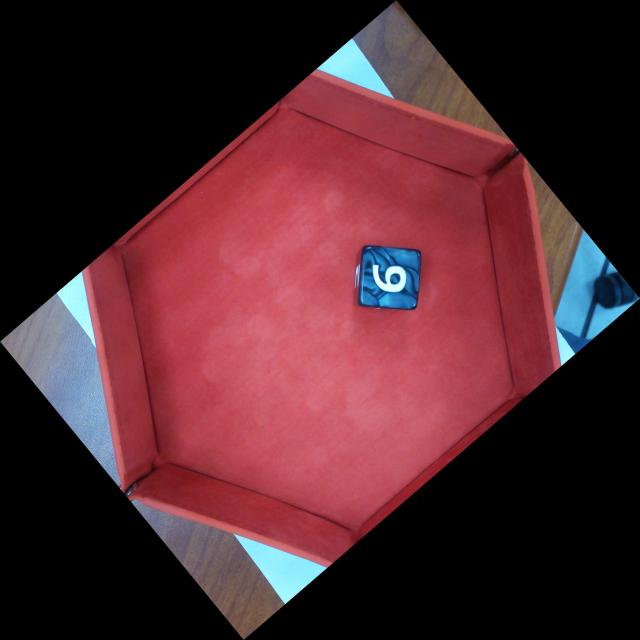dice: (357, 244, 423, 311)
